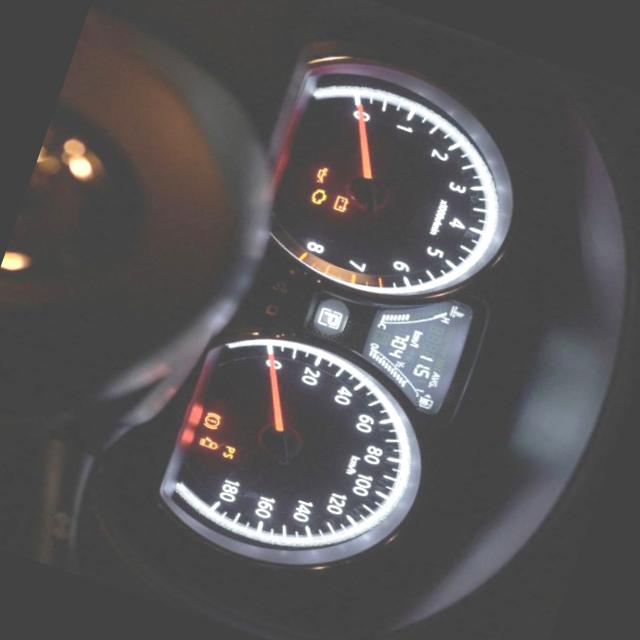kontrolka: (327, 190, 354, 217), (198, 406, 226, 432), (306, 184, 330, 208), (311, 162, 333, 186)
